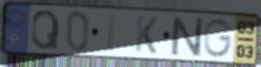0: (64, 10, 91, 54)
G: (203, 17, 235, 59)
I: (105, 12, 118, 55)
K: (134, 14, 160, 56)
N: (170, 14, 205, 58)
Q: (30, 9, 62, 52)
